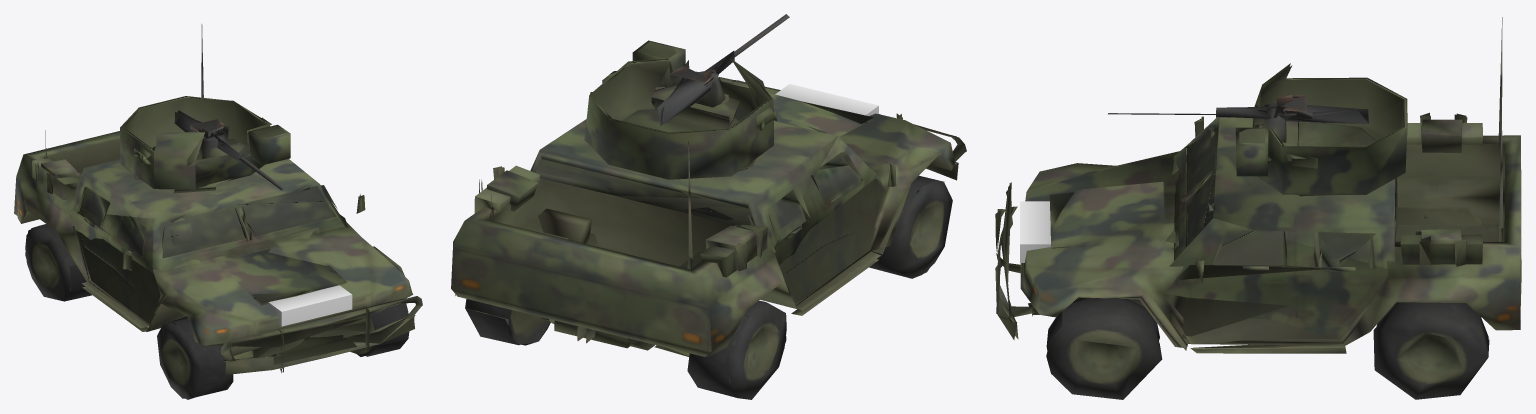
Rendered from cn-mengshi.glb.
3 renders of one model, left to right at view 1: azimuth 30°, elevation 25°; view 2: azimuth 150°, elevation 25°; view 3: azimuth 270°, elevation 25°, orthographic. The views are drawn at different scales.
Parts seen in each view (by area): view 1: cn-mengshi, turret; view 2: cn-mengshi, turret; view 3: cn-mengshi, turret.
Boxes of the visible parts, x1=… form: cn-mengshi: x1=14, y1=131, x2=422, y2=399; turret: x1=32, y1=24, x2=334, y2=257; cn-mengshi: x1=451, y1=77, x2=966, y2=399; turret: x1=475, y1=14, x2=837, y2=267; cn-mengshi: x1=995, y1=113, x2=1521, y2=399; turret: x1=1108, y1=17, x2=1503, y2=268.
Size of the model in its own units: 0.516 by 0.45 by 0.774.
Materials: 2 (1 with a texture image).
